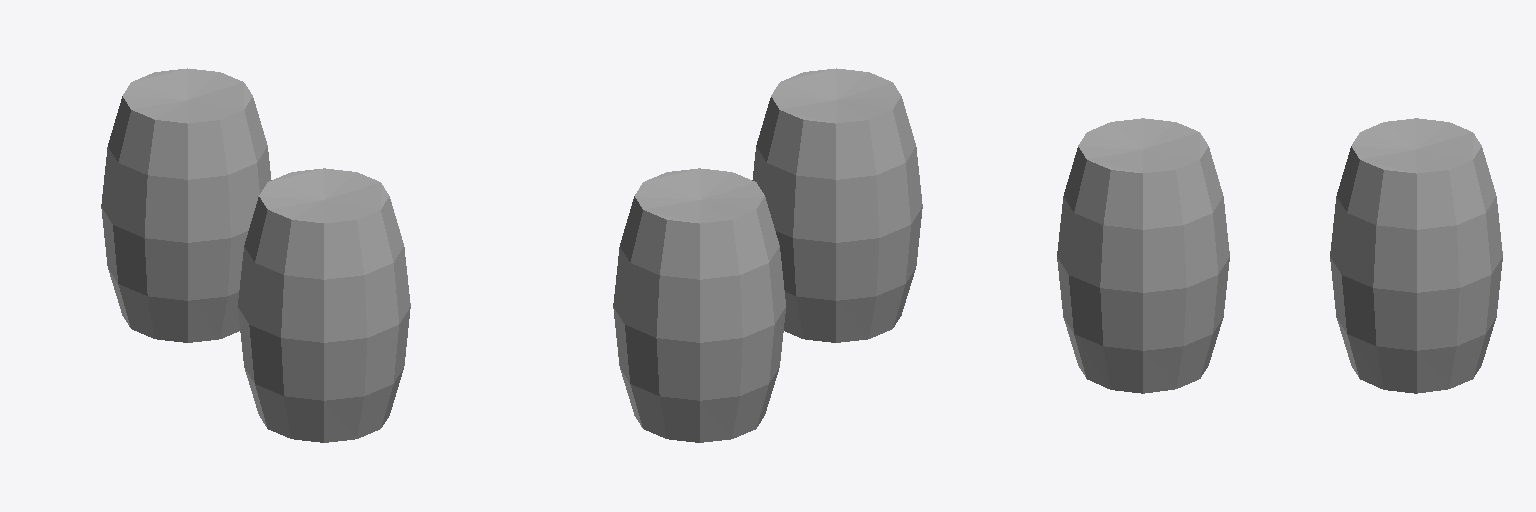
The model's file is O3ZHYWWYBQ64BGXI7ZKDI0FWX.obj.
The picture shows the model from 3 angles: view 1: azimuth 30°, elevation 25°; view 2: azimuth 150°, elevation 25°; view 3: azimuth 270°, elevation 25°; orthographic projection.
Visible parts, largest first — view 1: Object_Wooden_Barrel_D.jpg; view 2: Object_Wooden_Barrel_D.jpg; view 3: Object_Wooden_Barrel_D.jpg.
Part boxes in pixels (left/top/right/bottom): Object_Wooden_Barrel_D.jpg: left=101, top=68, right=410, bottom=442; Object_Wooden_Barrel_D.jpg: left=613, top=68, right=922, bottom=442; Object_Wooden_Barrel_D.jpg: left=1057, top=118, right=1502, bottom=393.
Bounding box in the file's own units: 0.97 × 1.36 × 2.5.